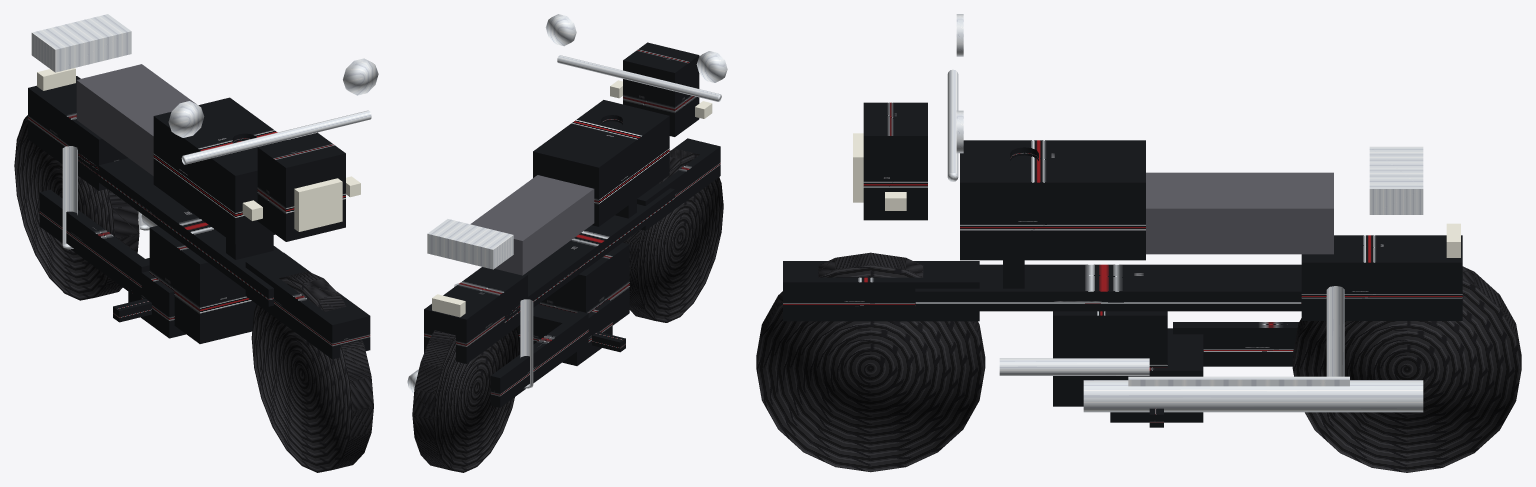
The model's file is mumbai_motorcycle_realistic.glb.
3 views of the same model, side by side, from view 1: azimuth 30°, elevation 25°; view 2: azimuth 150°, elevation 25°; view 3: azimuth 270°, elevation 25° (orthographic). The views are drawn at different scales.
Parts seen in each view (by area): view 1: Motorcycle_Tank_Body, Motorcycle_Tires, Motorcycle_Frame_Engine, Motorcycle_Chrome_Exhaust, Motorcycle_Seat, Motorcycle_Lights; view 2: Motorcycle_Tank_Body, Motorcycle_Tires, Motorcycle_Frame_Engine, Motorcycle_Chrome_Exhaust, Motorcycle_Seat, Motorcycle_Lights; view 3: Motorcycle_Tires, Motorcycle_Tank_Body, Motorcycle_Frame_Engine, Motorcycle_Chrome_Exhaust, Motorcycle_Seat, Motorcycle_Lights.
Part boxes in pixels (x1,y1,x2,y2): Motorcycle_Tank_Body: (28,76,370,359); Motorcycle_Tires: (14,115,373,472); Motorcycle_Frame_Engine: (39,150,282,343); Motorcycle_Chrome_Exhaust: (31,14,378,249); Motorcycle_Seat: (76,64,195,175); Motorcycle_Lights: (37,68,360,231); Motorcycle_Tank_Body: (424,42,720,363); Motorcycle_Tires: (412,148,723,472); Motorcycle_Frame_Engine: (490,188,674,407); Motorcycle_Chrome_Exhaust: (407,14,727,393); Motorcycle_Seat: (470,175,594,275); Motorcycle_Lights: (432,80,712,317); Motorcycle_Tires: (756,252,1521,472); Motorcycle_Tank_Body: (783,102,1462,321); Motorcycle_Frame_Engine: (915,260,1301,427); Motorcycle_Chrome_Exhaust: (947,14,1423,412); Motorcycle_Seat: (1146,172,1333,254); Motorcycle_Lights: (853,133,1460,257).
Size of the model in its own units: 0.76 by 1.24 by 2.14.
5 materials, 3 textured.
